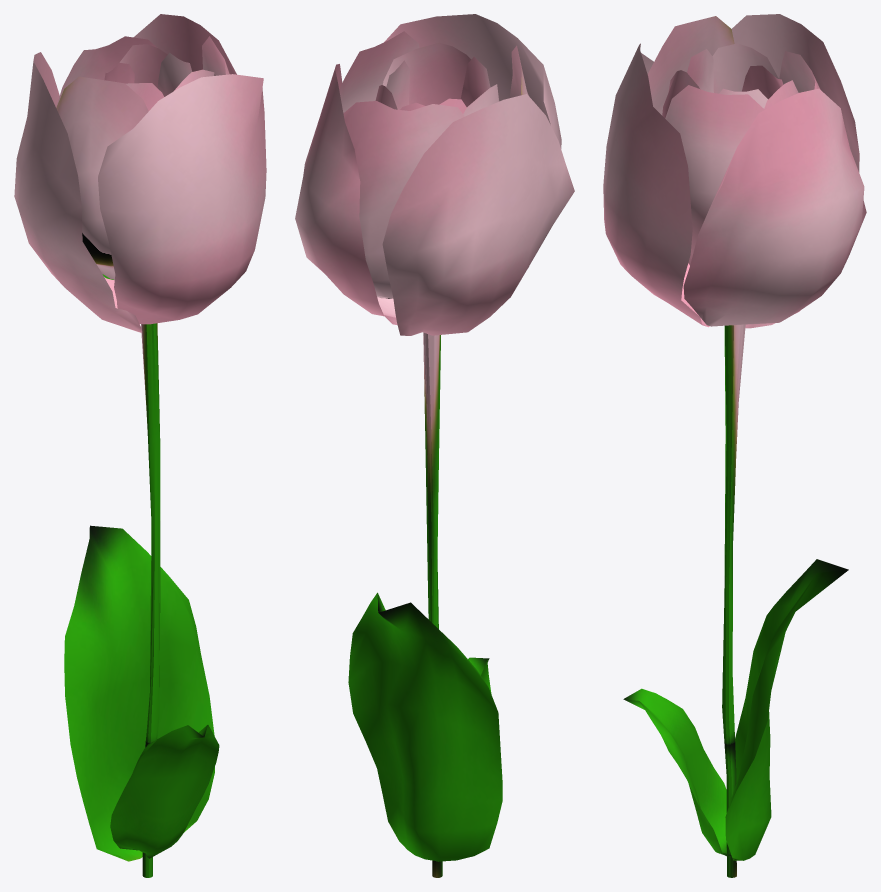
Rendered from tulip.glb.
3 views of the same model, side by side, from view 1: azimuth 30°, elevation 25°; view 2: azimuth 150°, elevation 25°; view 3: azimuth 270°, elevation 25° (orthographic).
Parts seen in each view (by area): view 1: Geometry; view 2: Geometry; view 3: Geometry.
Boxes of the visible parts, x1=… form: Geometry: x1=14, y1=14, x2=266, y2=877; Geometry: x1=295, y1=14, x2=574, y2=877; Geometry: x1=603, y1=14, x2=866, y2=877.
Size of the model in its own units: 1.68 by 6.24 by 1.8.
1 material, 1 textured.
